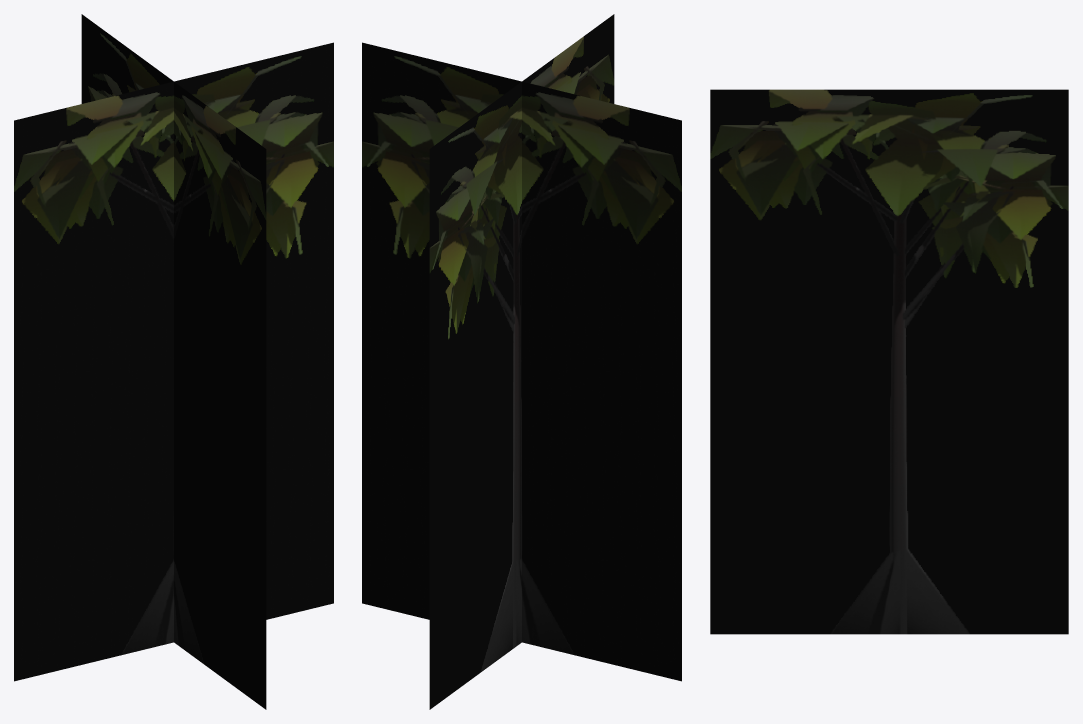
File: broadleaf_c_card.glb
3 renders of one model, left to right at view 1: azimuth 30°, elevation 25°; view 2: azimuth 150°, elevation 25°; view 3: azimuth 270°, elevation 25°, orthographic. The views are drawn at different scales.
Parts seen in each view (by area): view 1: broadleaf_c_card; view 2: broadleaf_c_card; view 3: broadleaf_c_card.
Part boxes in pixels (box(x1,y1,x2,y2)): broadleaf_c_card: box(14, 14, 333, 709); broadleaf_c_card: box(362, 14, 681, 709); broadleaf_c_card: box(710, 89, 1068, 634).
Bounding box in the file's own units: 7.98 × 13.38 × 7.98.
Materials: 1 (1 with a texture image).
